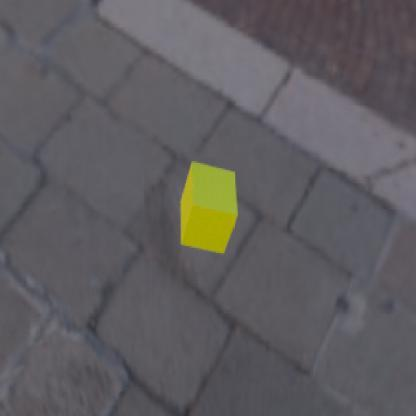cube: (179, 160, 238, 254)
